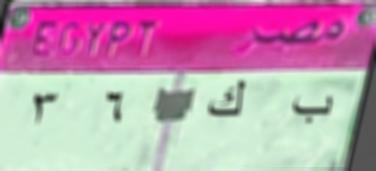3: (30, 86, 60, 131)
6: (102, 87, 127, 132)
baa: (286, 89, 335, 130)
kaaf: (204, 74, 251, 126)
